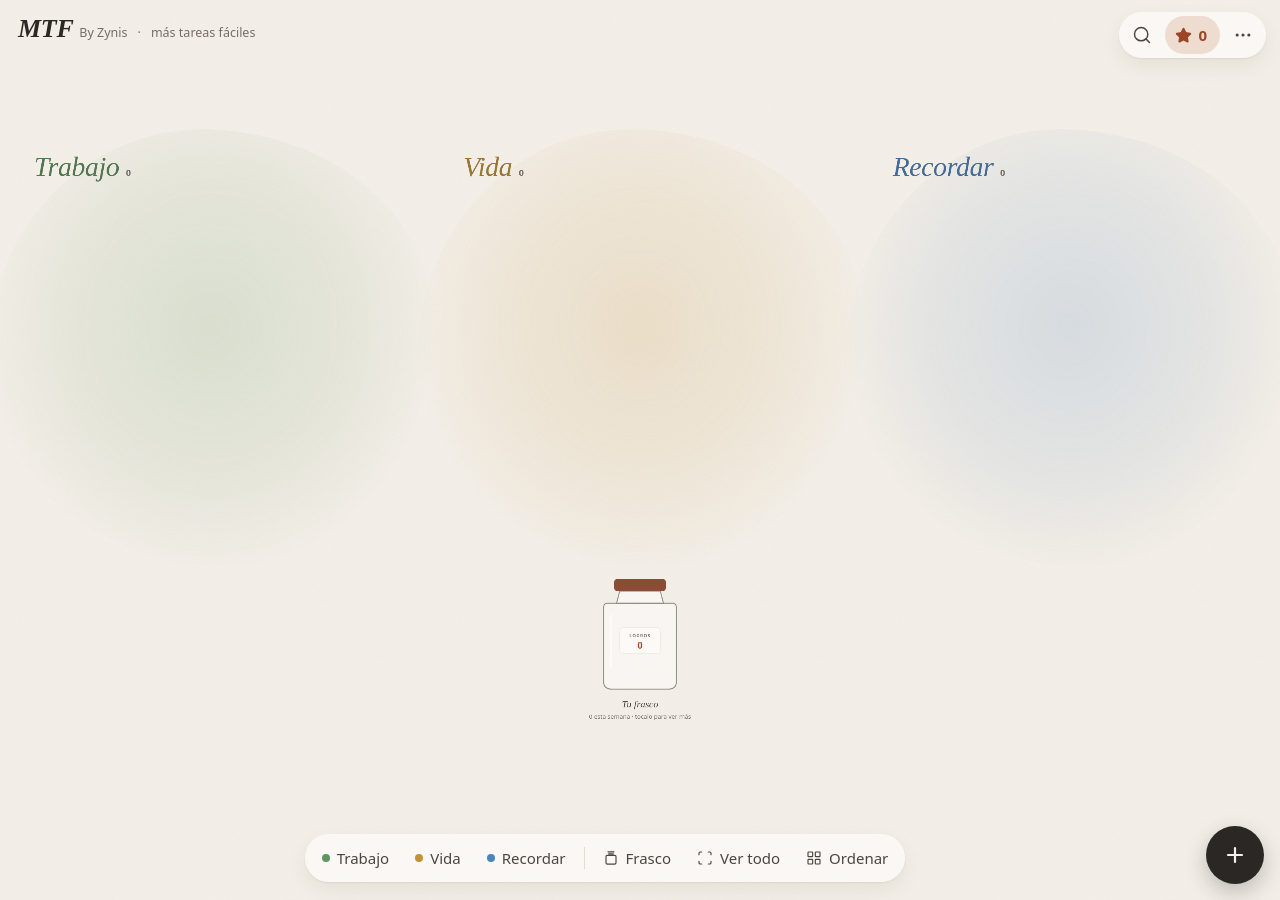
it: App › opens Settings with the language and theme selectors
This screenshot has width=1280, height=900.
Click the button named "Ajustes".
click(1243, 35)  # box left=1224, top=16, right=1262, bottom=54
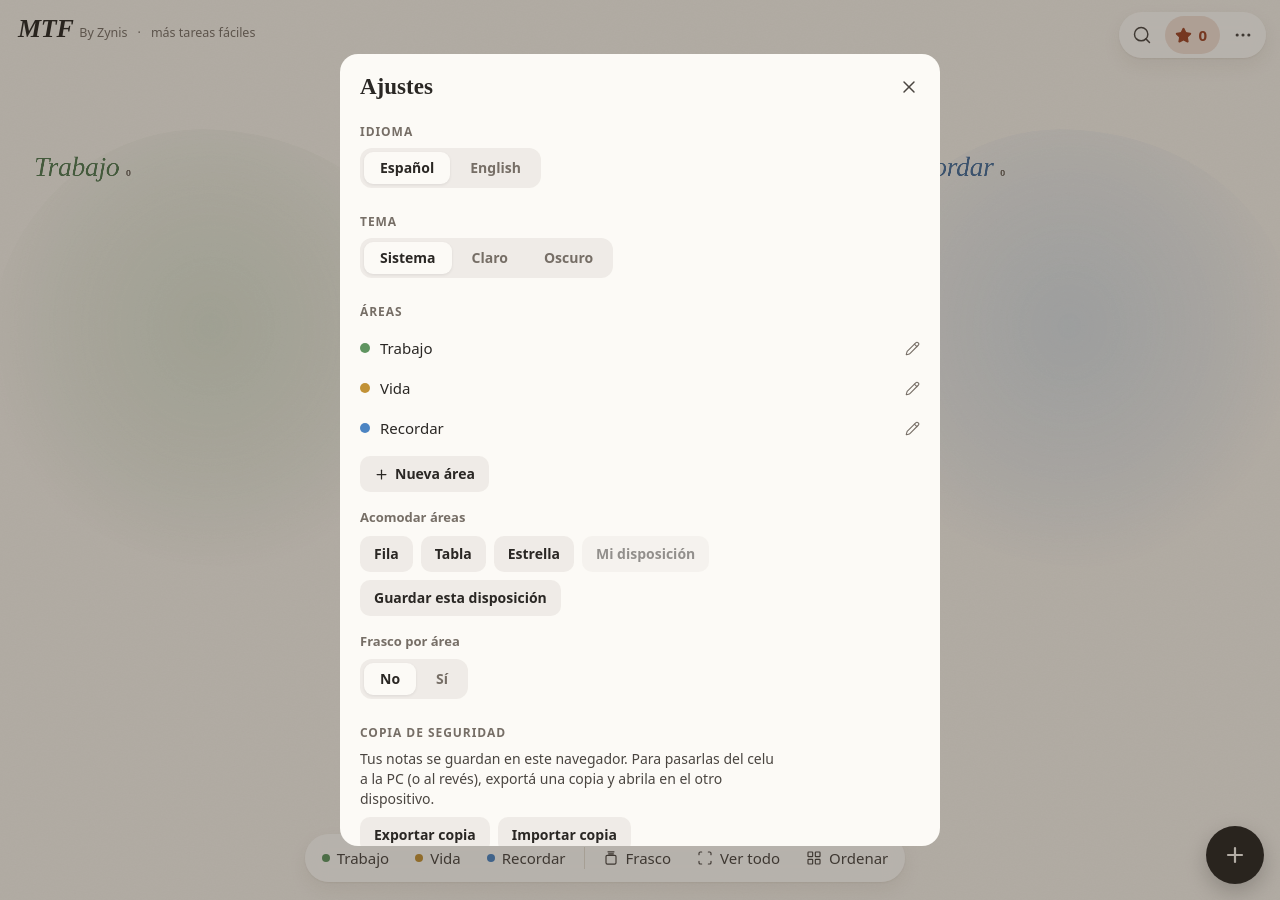
Check: the dialog "Ajustes" is shown, box left=340, top=54, right=940, bottom=846
Check: the element named "Idioma" is shown, box left=360, top=148, right=541, bottom=188
Check: the element "tema" is shown, box left=360, top=238, right=613, bottom=278
